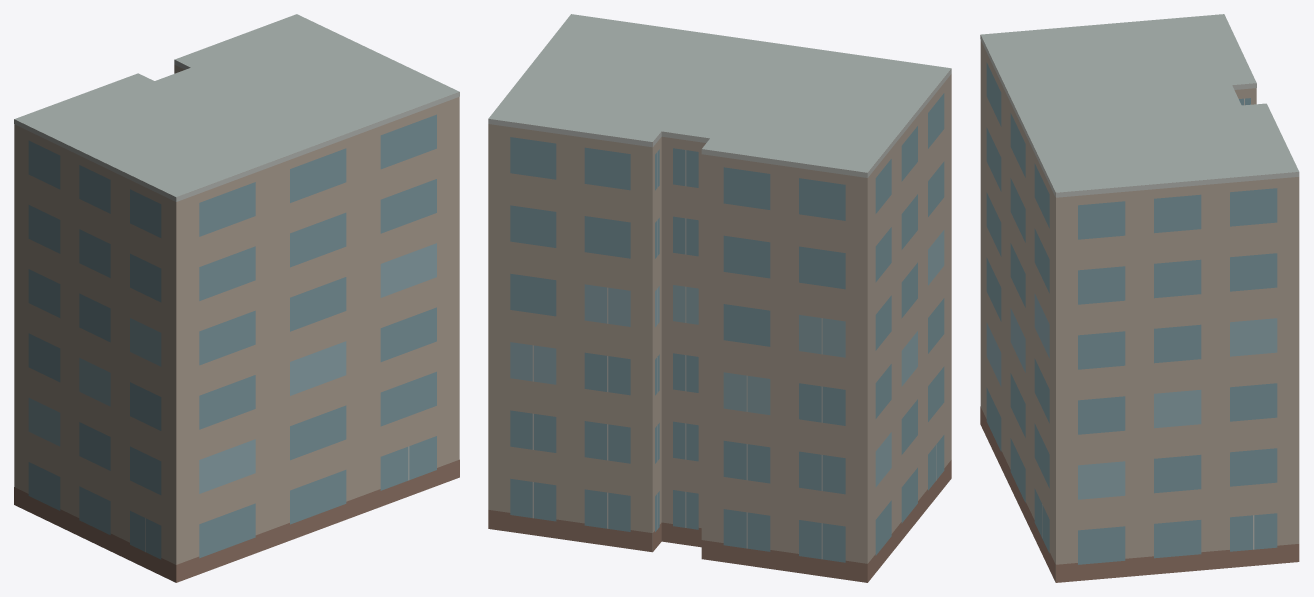
The model's file is survey-upis-32741165.glb.
3 views of the same model, side by side, from view 1: azimuth 30°, elevation 25°; view 2: azimuth 150°, elevation 25°; view 3: azimuth 270°, elevation 25° (orthographic). The views are drawn at different scales.
Visible parts, largest first — view 1: survey-upis-32741165.tmp; view 2: survey-upis-32741165.tmp; view 3: survey-upis-32741165.tmp.
Boxes of the visible parts, x1=… form: survey-upis-32741165.tmp: x1=14, y1=14, x2=459, y2=582; survey-upis-32741165.tmp: x1=488, y1=14, x2=951, y2=582; survey-upis-32741165.tmp: x1=980, y1=14, x2=1299, y2=582.
Bounding box in the file's own units: 18.88 × 19.2 × 14.23.
